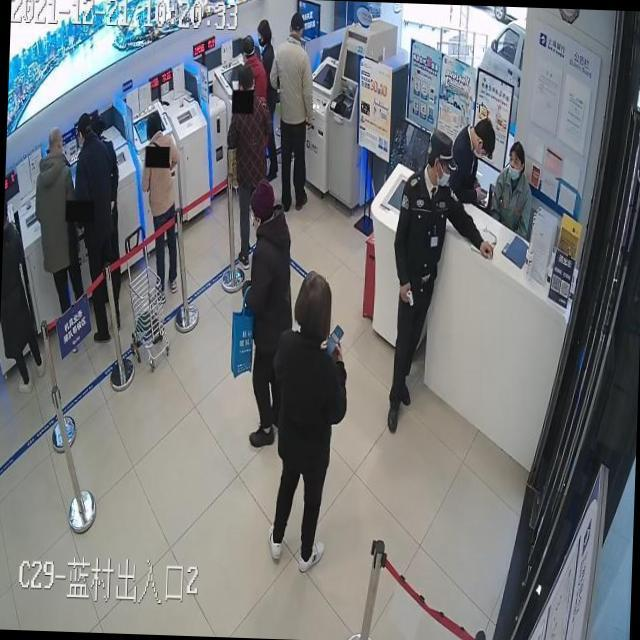person: (386, 128, 499, 434), (267, 268, 352, 574), (232, 180, 296, 450), (69, 112, 128, 342), (31, 126, 88, 314), (222, 62, 275, 264), (266, 13, 318, 214), (80, 111, 129, 318), (0, 195, 50, 391), (138, 109, 185, 300), (248, 24, 279, 180), (448, 115, 496, 209), (490, 140, 532, 238), (240, 36, 267, 108)
